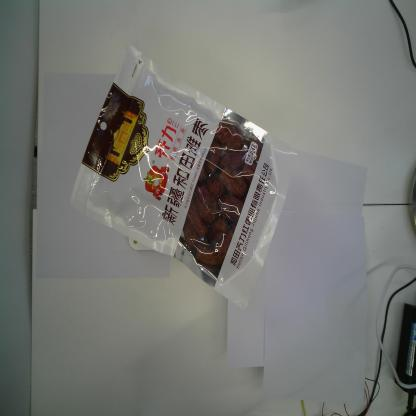Dried Food: (69, 41, 302, 316)
